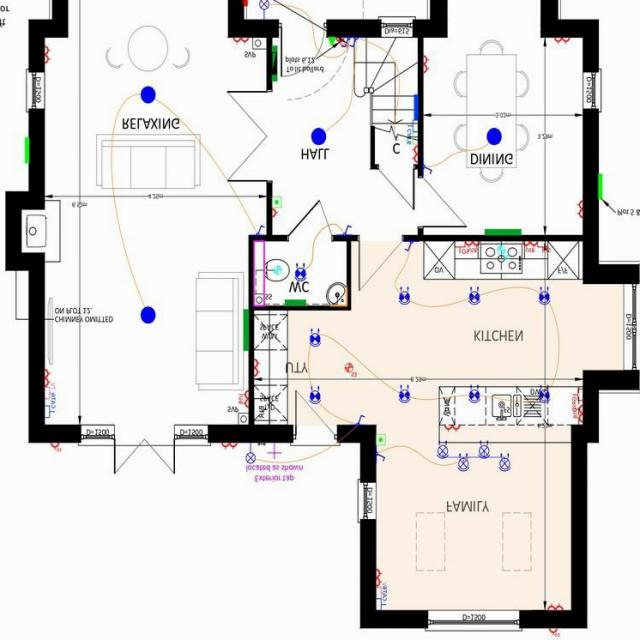BT Entry Point: (327, 39, 334, 46)
Cat 6 Data Socket: (405, 121, 417, 145), (44, 394, 55, 418), (376, 588, 386, 612)
Ceiling Mounted Continuous Extract FanWith Boost Mode Activated By Light Switch: (272, 267, 280, 276)
Ceiling Mounted Continuous Extract FanWith Local Boost Switch: (344, 364, 356, 378)
Co-Ax TV Socket: (375, 583, 386, 600), (44, 383, 54, 400)
Consumer Unit: (272, 52, 276, 76)
Double Socket: (546, 604, 563, 612), (409, 147, 417, 164), (443, 426, 460, 433), (553, 39, 570, 46), (232, 39, 249, 46), (220, 444, 236, 451), (576, 201, 582, 219), (422, 56, 428, 74), (253, 360, 259, 378), (44, 47, 50, 64), (44, 370, 50, 387), (376, 570, 382, 586)
Electric Meter Box: (243, 0, 247, 8)
External Wall Light: (258, 0, 269, 21), (244, 444, 254, 465)
Gas Meter Box: (597, 174, 601, 201), (24, 138, 28, 164)
Grid Switch: (570, 389, 582, 411)
Hob Switch: (536, 242, 550, 254)
Light Switch: (354, 416, 366, 426), (341, 226, 351, 236), (403, 243, 412, 253), (341, 39, 350, 49), (422, 166, 432, 175), (256, 225, 264, 236), (376, 453, 385, 462), (349, 39, 358, 48)
Low Energy Downlighter: (308, 329, 320, 348), (309, 386, 320, 406), (294, 263, 305, 283), (468, 386, 480, 404), (537, 386, 549, 404), (397, 288, 409, 306), (468, 288, 480, 306), (398, 385, 409, 404), (538, 288, 549, 306)
Low Energy Pendant Light: (486, 128, 501, 146), (140, 307, 155, 325), (140, 86, 154, 105), (310, 129, 325, 146)
Outside Socket: (335, 39, 349, 48), (50, 444, 61, 453), (548, 630, 559, 638)
Outside Tap: (266, 444, 280, 462)
Oven Switch: (454, 243, 467, 255)
Programmable Room Thermostat: (375, 435, 385, 447), (271, 198, 281, 210)
Radiator: (484, 230, 521, 236), (271, 46, 277, 82), (242, 310, 247, 352), (284, 301, 305, 307)
Recirculating Extractor Fan: (497, 247, 508, 262)
Single Socket: (271, 209, 277, 219)
Telephone Socket: (407, 133, 417, 146)
Track Light: (436, 441, 511, 473)
USB Double Socket: (237, 391, 248, 409), (465, 242, 480, 254), (572, 406, 582, 423), (522, 243, 536, 253)
Underfloor Heating Manifold: (412, 95, 417, 121)
